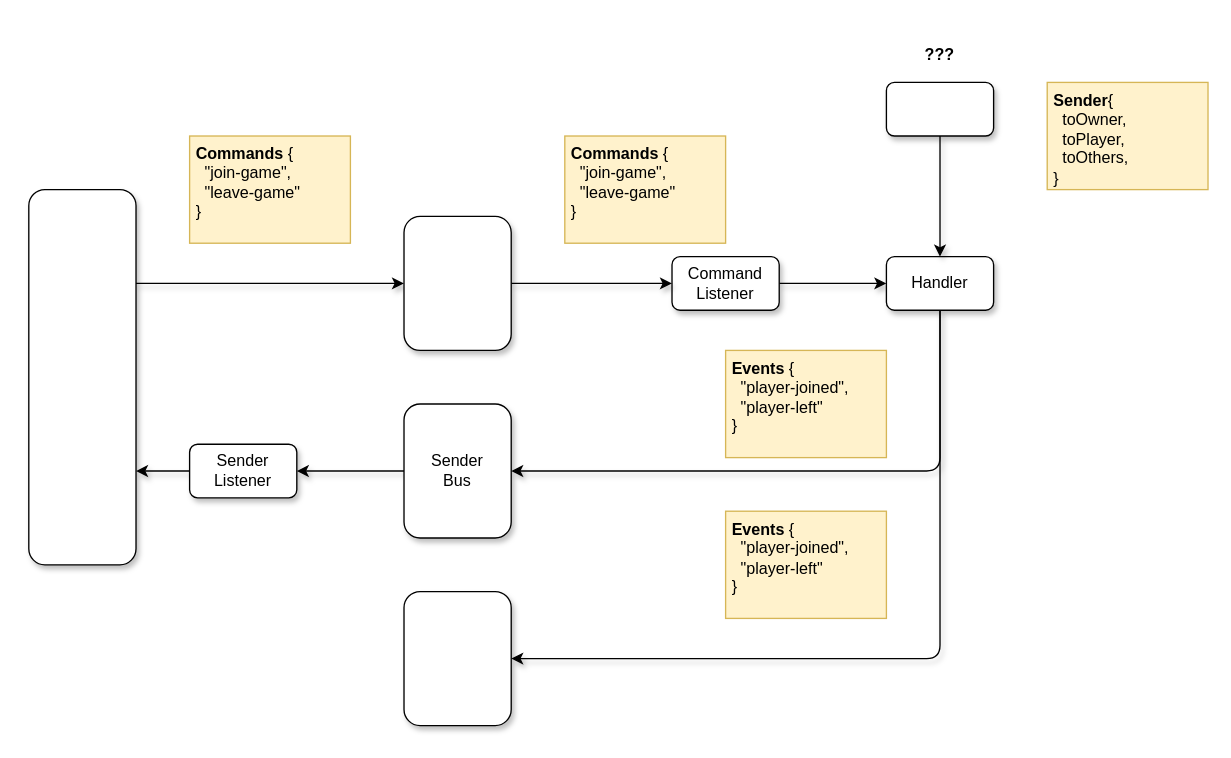
Image size: 1231x758. Some labels were removed from this diagram. Here are the shapes that lost their labels. From the top down, the centre of each, then its label:
At pixel 941 110: "Context".
At pixel 458 285: "Command Bus".
At pixel 83 378: "Transport Layer".
At pixel 458 660: "Event Bus".
